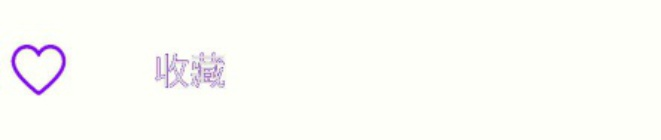CheckedTextView: (1, 1, 660, 139)
